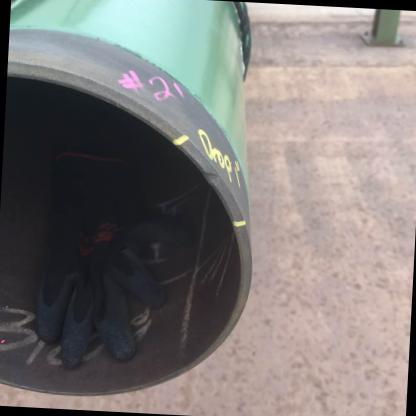Bevel: (195, 164, 223, 190)
